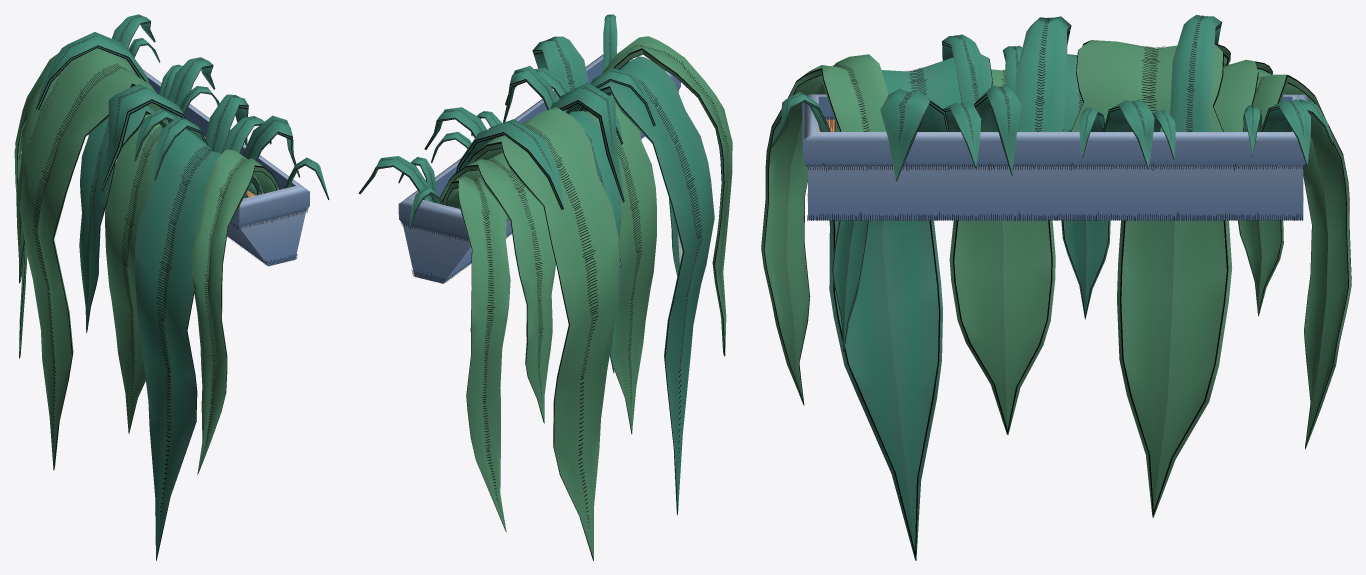
Rendered from FlowerPot_Narrow_01.glb.
The picture shows the model from 3 angles, left to right: view 1: azimuth 30°, elevation 25°; view 2: azimuth 150°, elevation 25°; view 3: azimuth 270°, elevation 25°; orthographic projection. The views are drawn at different scales.
Visible parts, largest first — view 1: FlowerPot_Narrow_01; view 2: FlowerPot_Narrow_01; view 3: FlowerPot_Narrow_01.
Boxes of the visible parts, left/top/right/bottom form: FlowerPot_Narrow_01: left=14, top=14, right=329, bottom=560; FlowerPot_Narrow_01: left=358, top=14, right=732, bottom=560; FlowerPot_Narrow_01: left=761, top=14, right=1351, bottom=560.
Bounding box in the file's own units: 1.82 × 4.32 × 4.05.
Materials: 3 (3 with a texture image).
